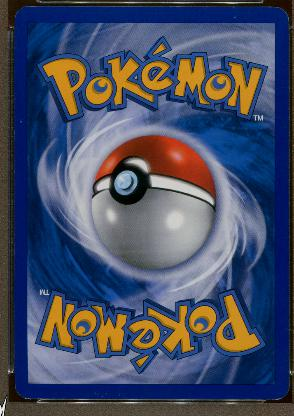Card: (11, 3, 291, 402), (12, 382, 31, 400)
Corner Wear: (263, 388, 288, 402)
Edge Wear: (167, 6, 234, 8), (14, 344, 16, 380), (13, 130, 14, 178)
Scratch: (92, 389, 109, 397), (281, 327, 288, 331), (19, 119, 22, 123)
